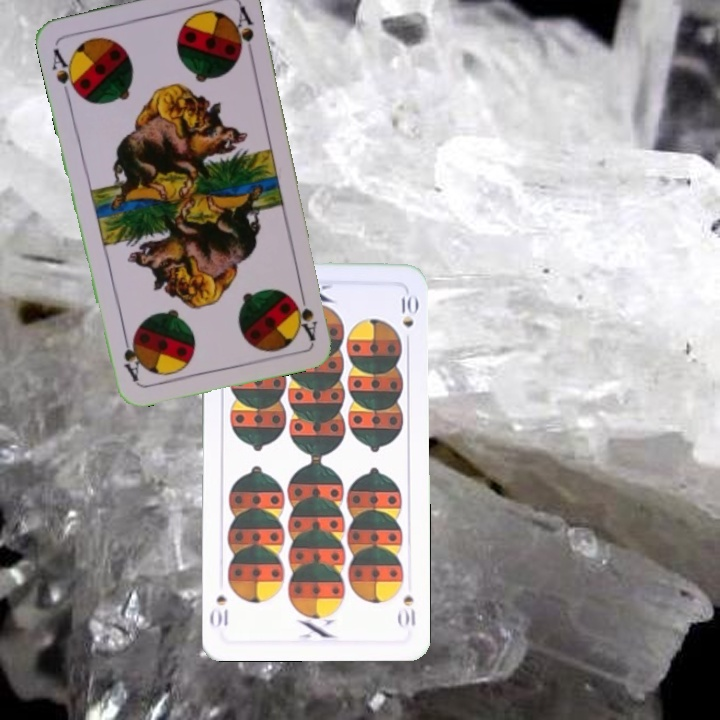S10: (395, 590, 418, 630)
SA: (48, 44, 82, 100), (290, 284, 320, 343)
